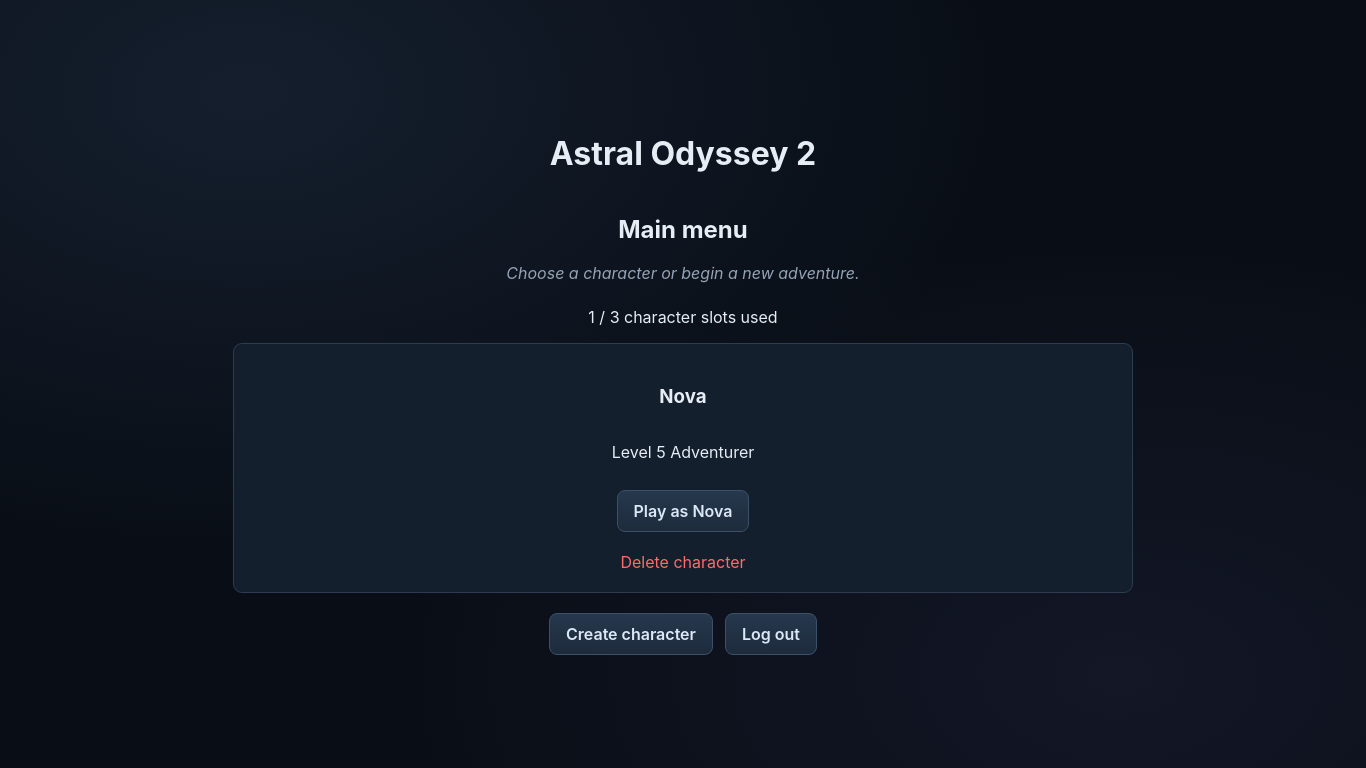
Scenario: confirmed deletion refreshes the roster without entering gameplay
Click the button with aria-label "Delete Nova".
click(683, 552)  # box [620,532,746,572]
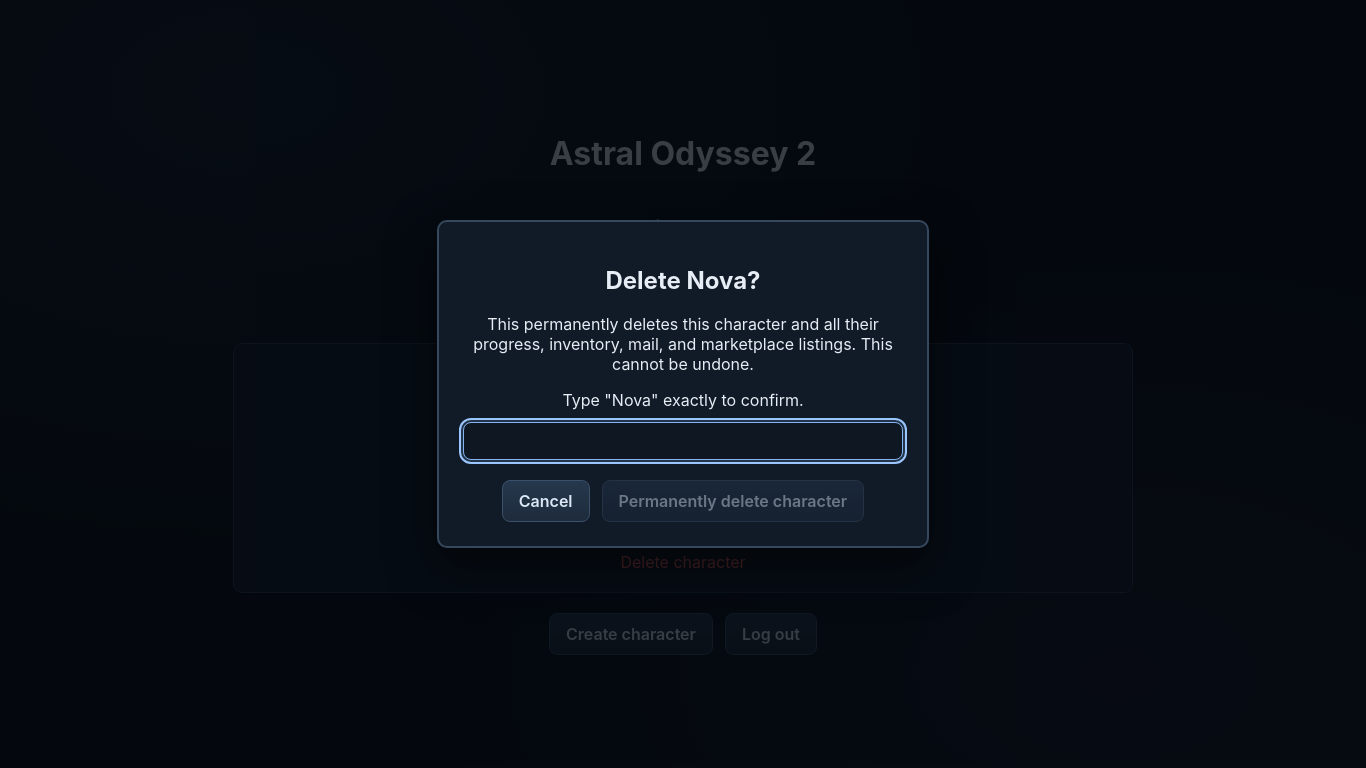
Type "Nova" into the field.
click(683, 441); type("Nova")  # box [463,422,903,460]
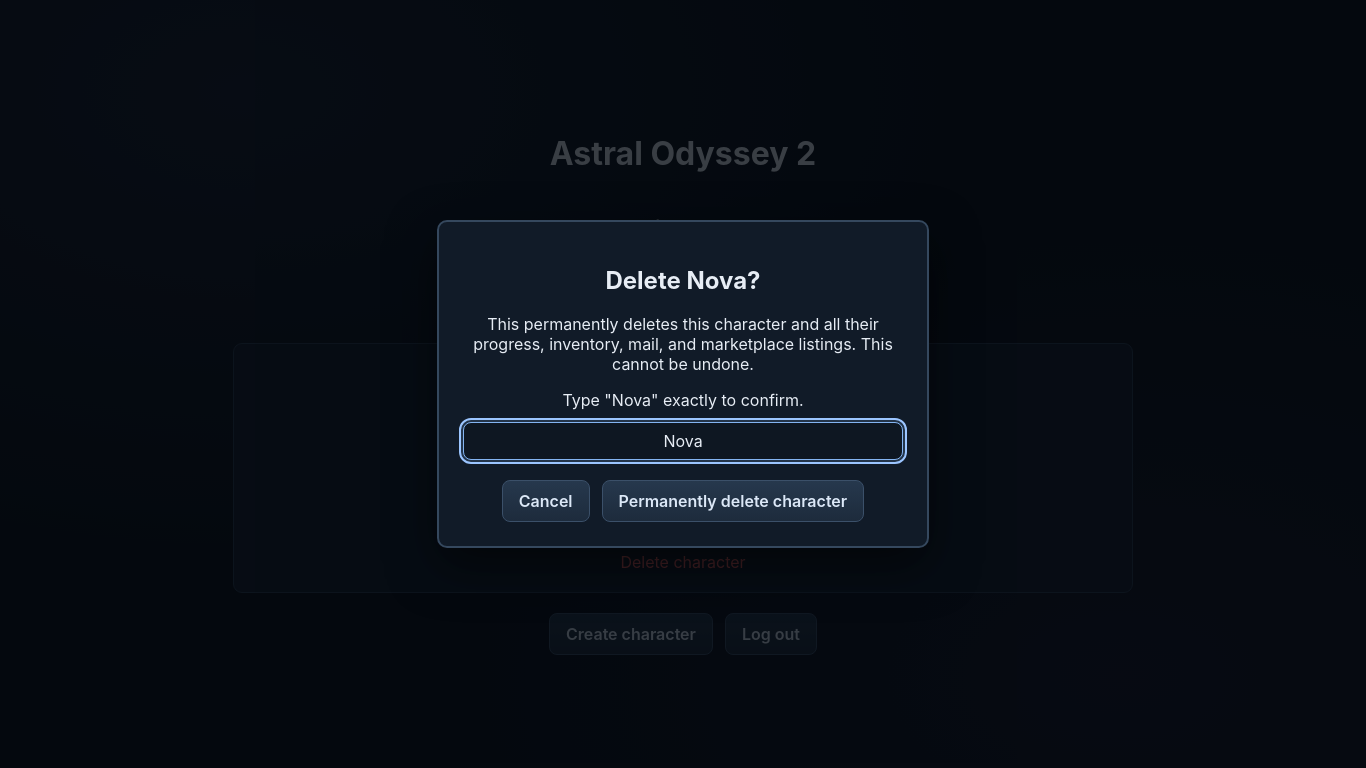
Click the button "Permanently delete character".
click(733, 501)  # box [602,480,864,522]
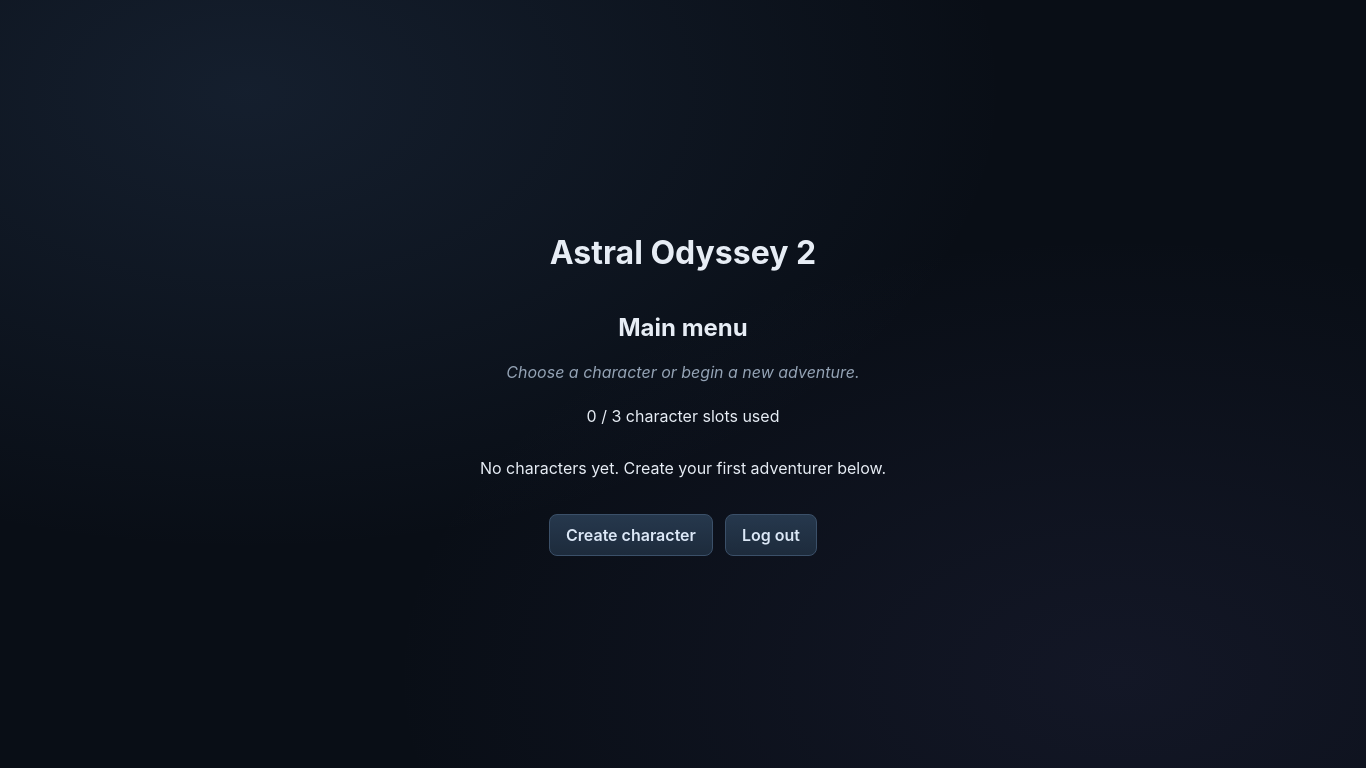
Expected: the text "0 / 3 character slots used" is shown, [586,406,779,426]
